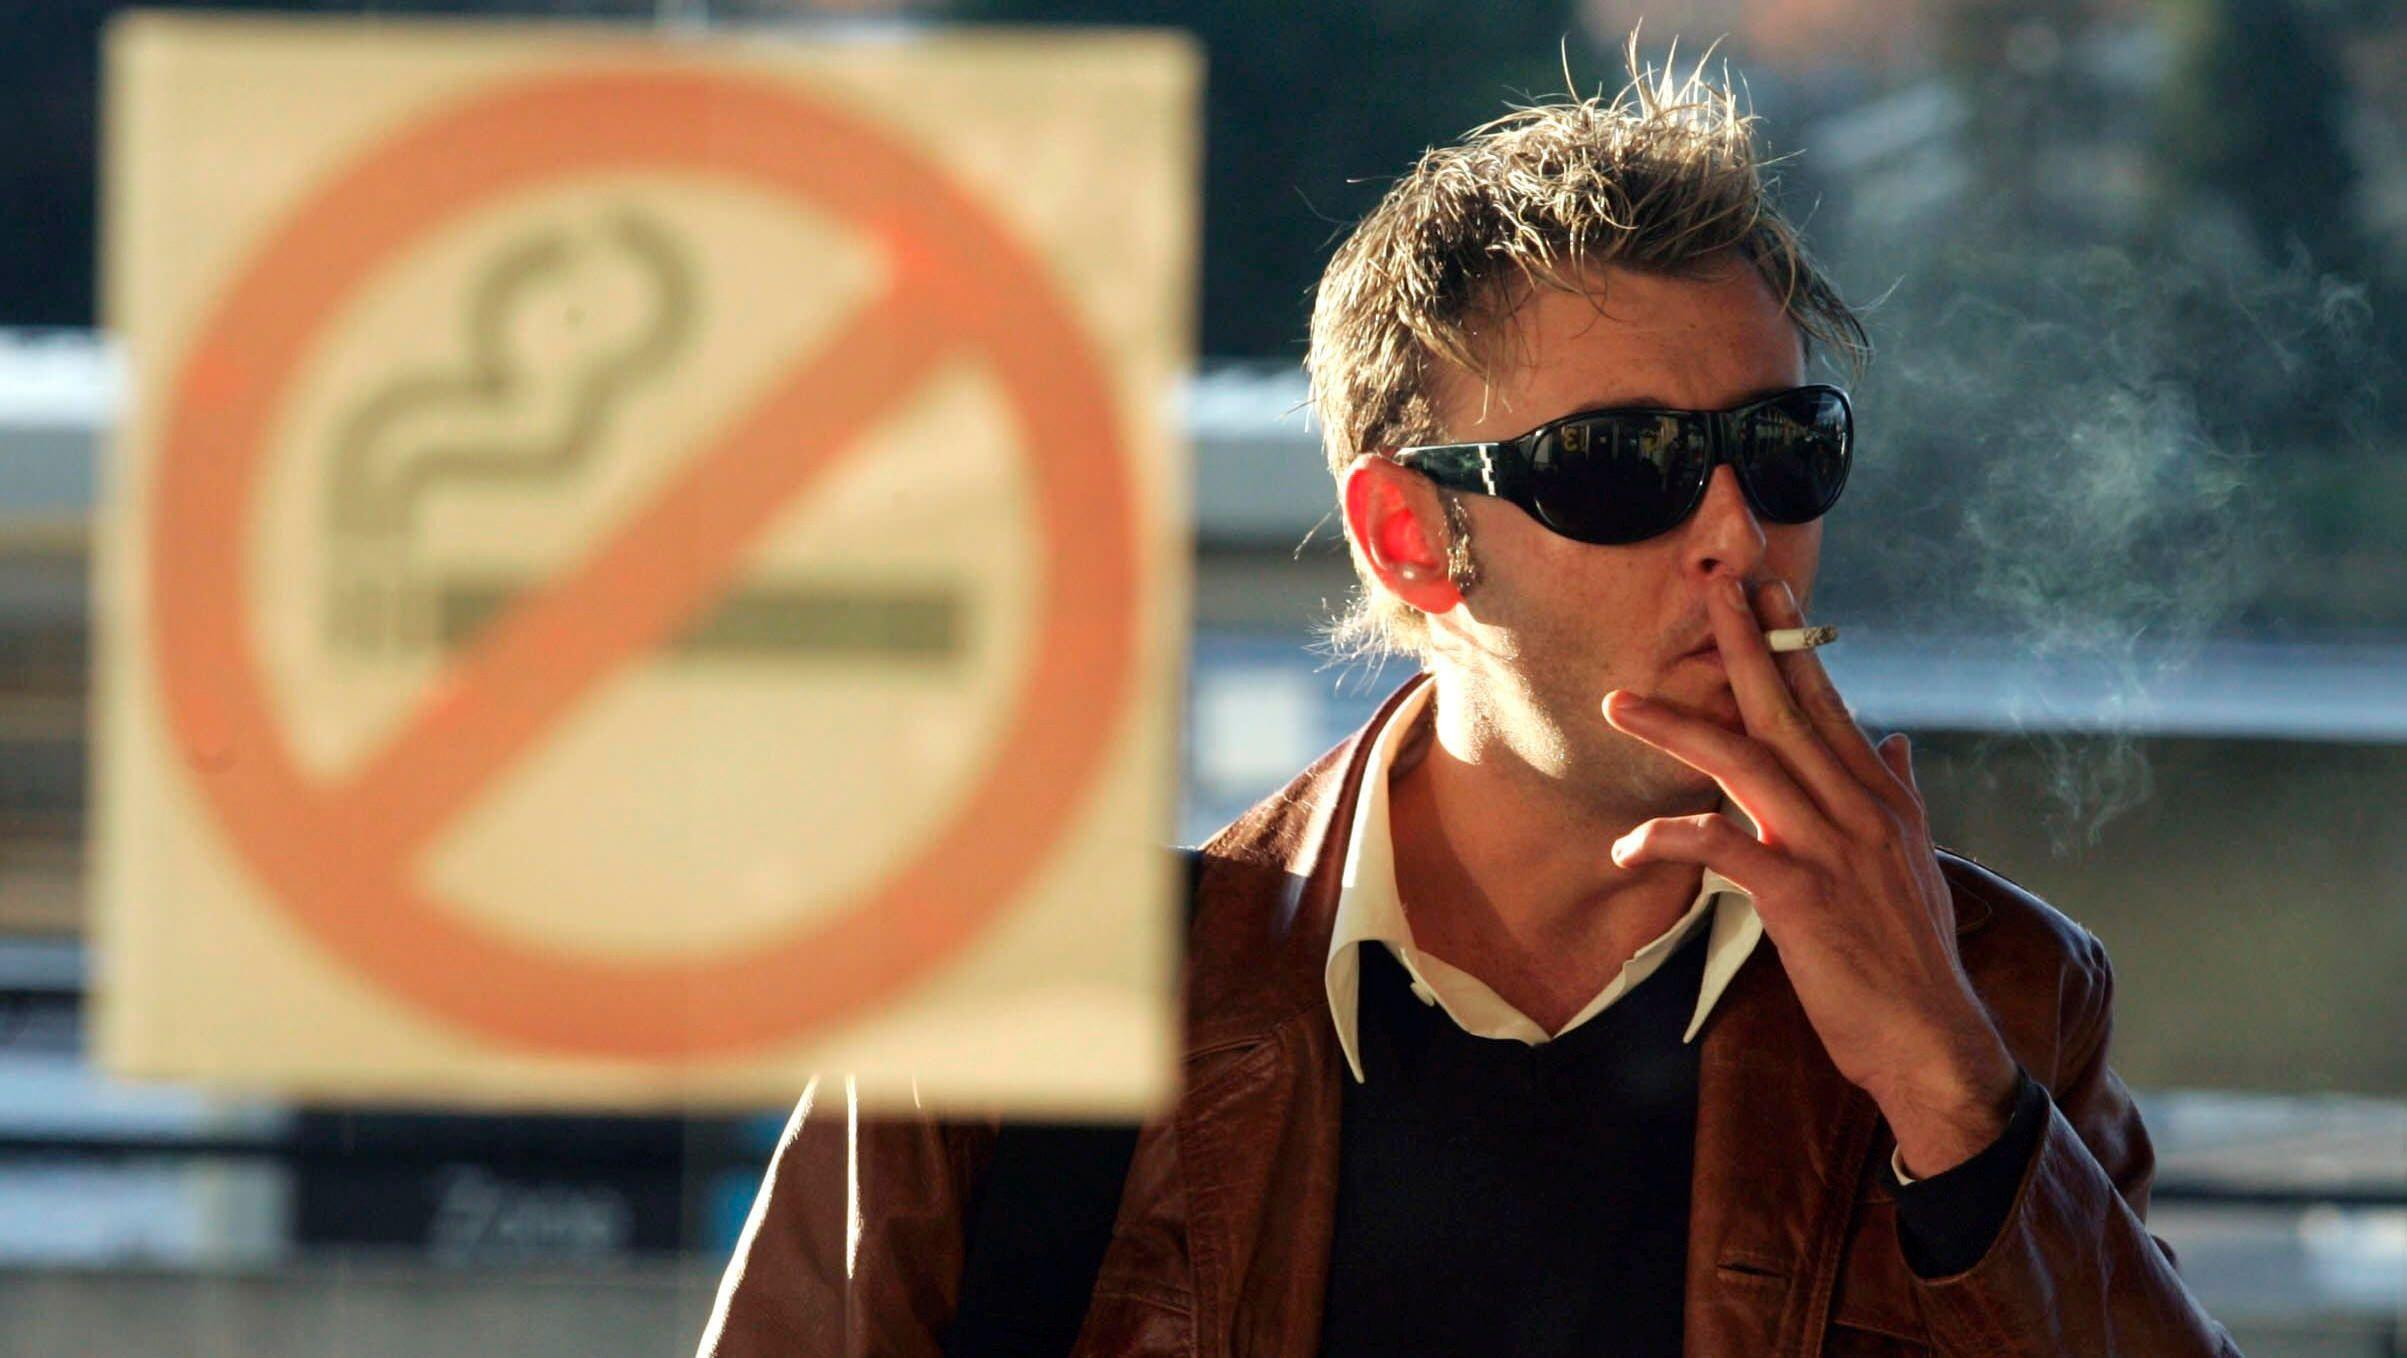cigarette: (1761, 624, 1840, 652)
